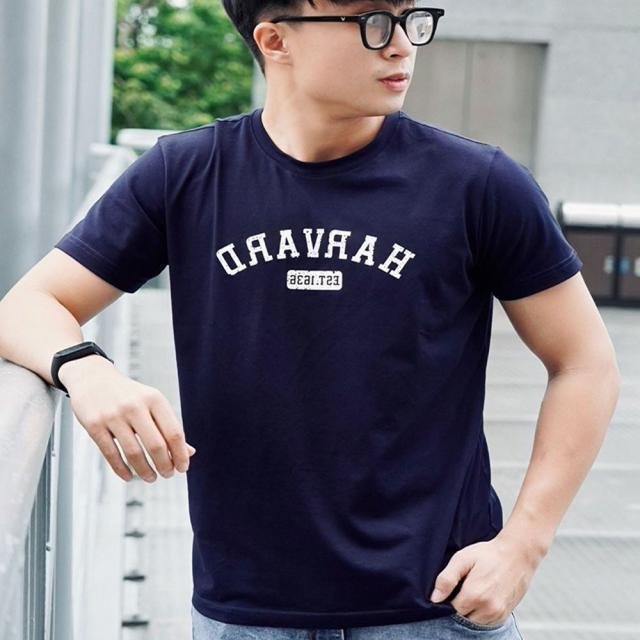short sleeve shirt: (46, 108, 586, 629)
trousers: (184, 605, 526, 640)
